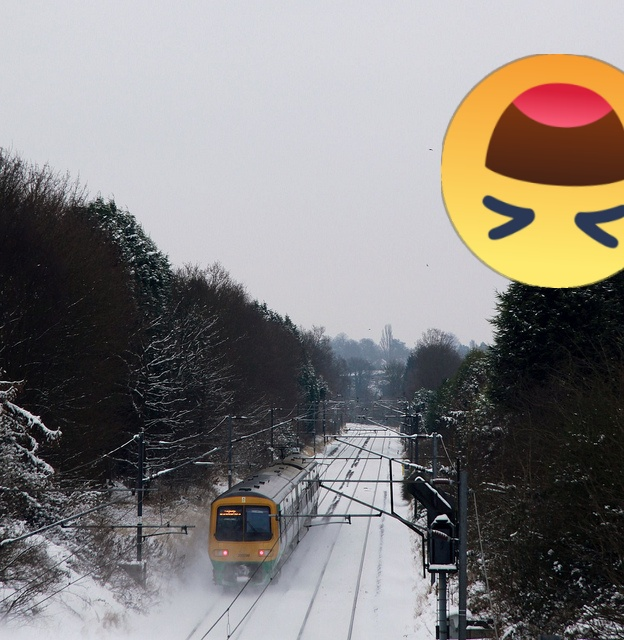haha: (441, 54, 624, 288)
